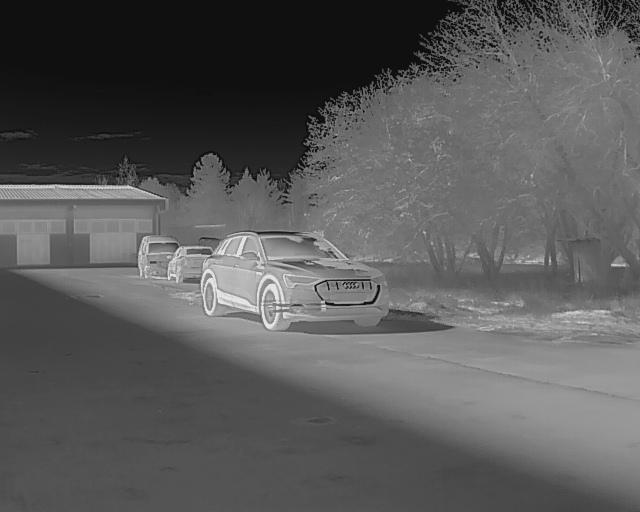drone: (254, 281, 337, 337)
